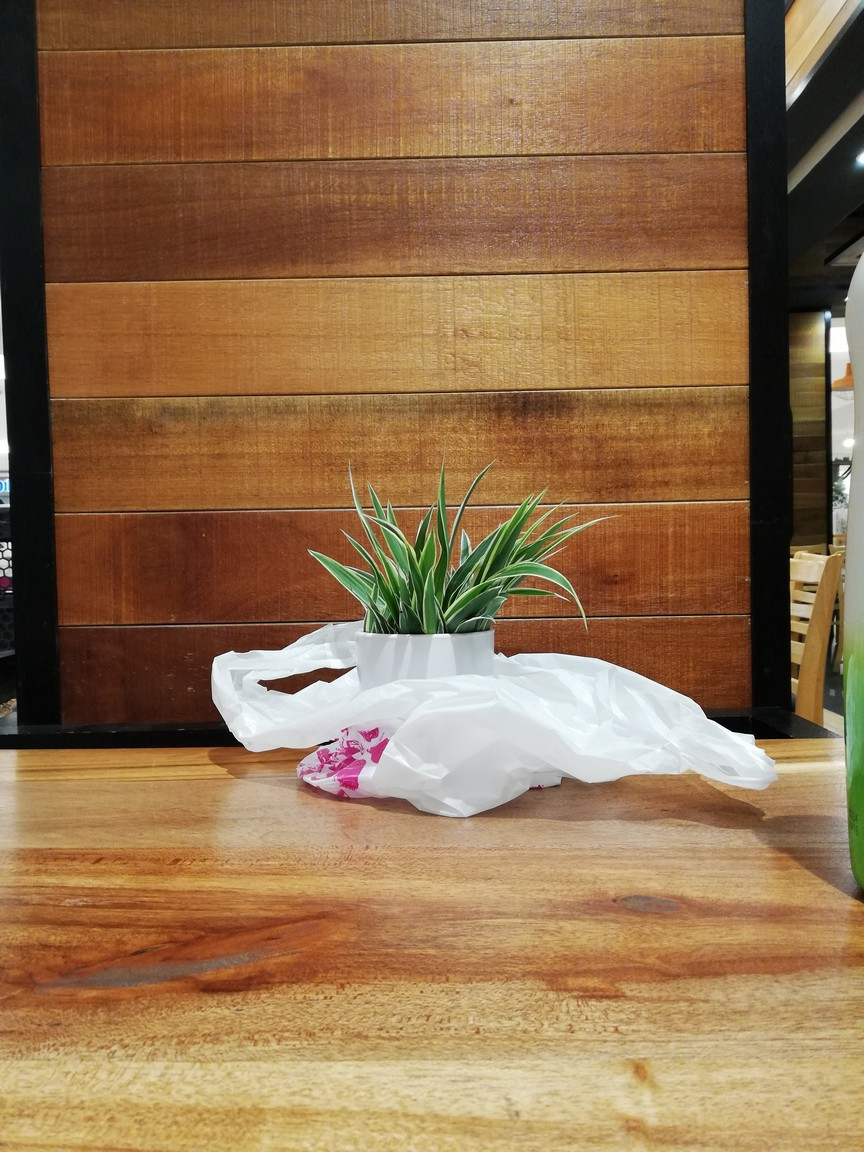daun: (451, 458, 496, 525), (308, 549, 342, 580), (344, 458, 362, 511), (419, 525, 436, 566), (418, 565, 435, 605), (341, 528, 364, 555), (528, 484, 551, 511), (366, 481, 384, 515), (526, 590, 569, 602), (542, 496, 569, 515), (421, 500, 437, 527), (515, 490, 535, 508), (556, 510, 580, 525), (460, 526, 473, 553), (363, 588, 378, 610), (384, 499, 397, 523), (488, 584, 504, 597), (493, 595, 509, 608), (448, 563, 456, 574)
